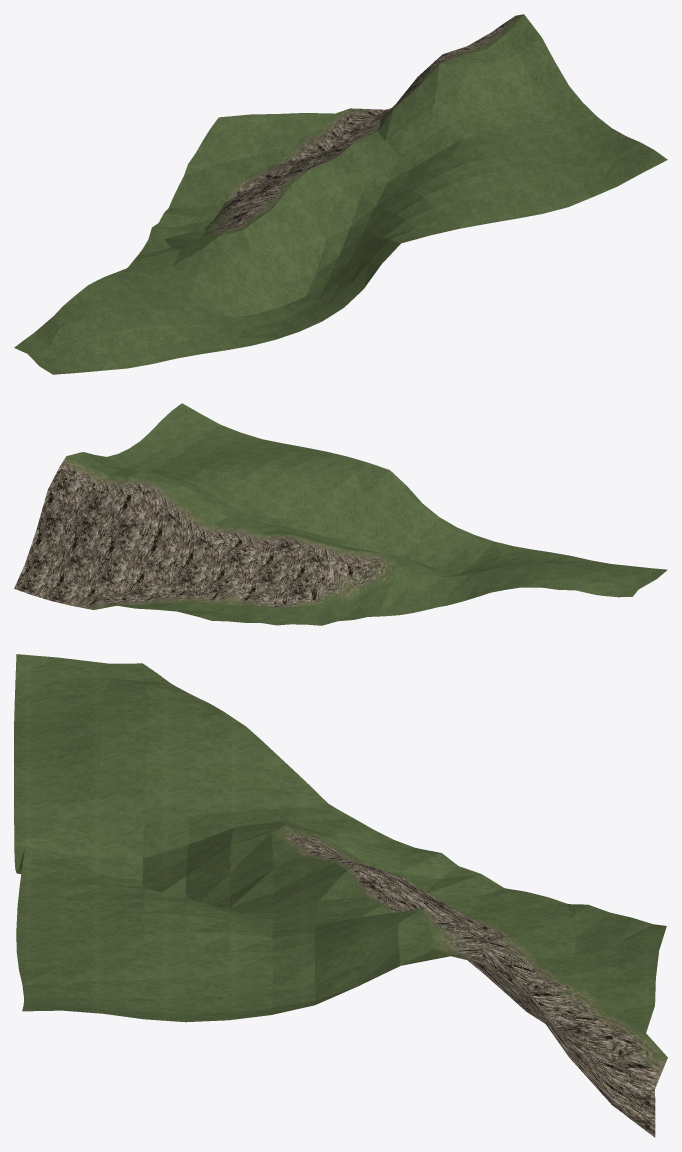
Rendered from a_carisle_mid_landmass_00_07.fbx.
3 renders of one model, top to bottom at view 1: azimuth 30°, elevation 25°; view 2: azimuth 150°, elevation 25°; view 3: azimuth 270°, elevation 25°, orthographic. The views are drawn at different scales.
Visible parts, largest first — view 1: a_carisle_mid_landmass_00_07; view 2: a_carisle_mid_landmass_00_07; view 3: a_carisle_mid_landmass_00_07.
Part boxes in pixels (left/top/right/bottom): a_carisle_mid_landmass_00_07: left=14, top=14, right=667, bottom=374; a_carisle_mid_landmass_00_07: left=14, top=403, right=667, bottom=625; a_carisle_mid_landmass_00_07: left=14, top=654, right=667, bottom=1137.
Bounding box in the file's own units: 57.17 × 34.8 × 11.61.
